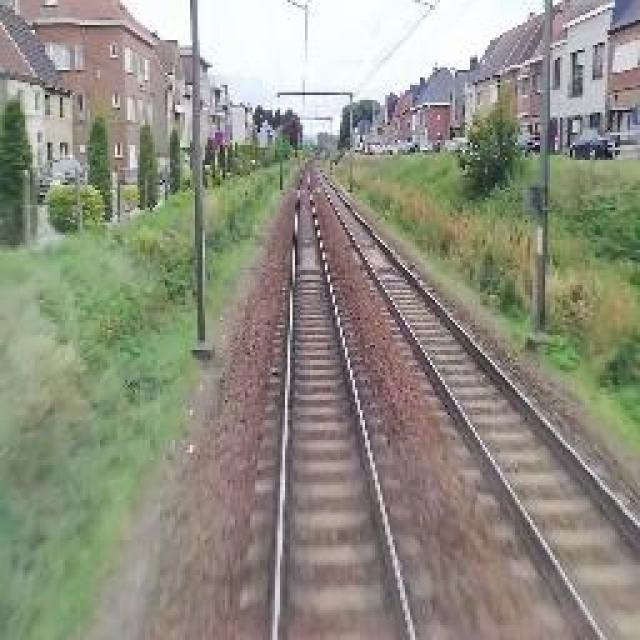rail: (253, 164, 446, 640)
